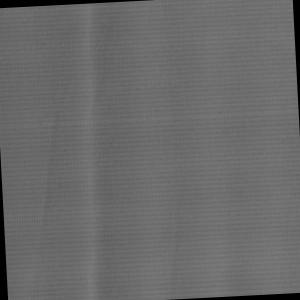Wrinkle: (68, 2, 130, 300), (9, 113, 71, 300)
